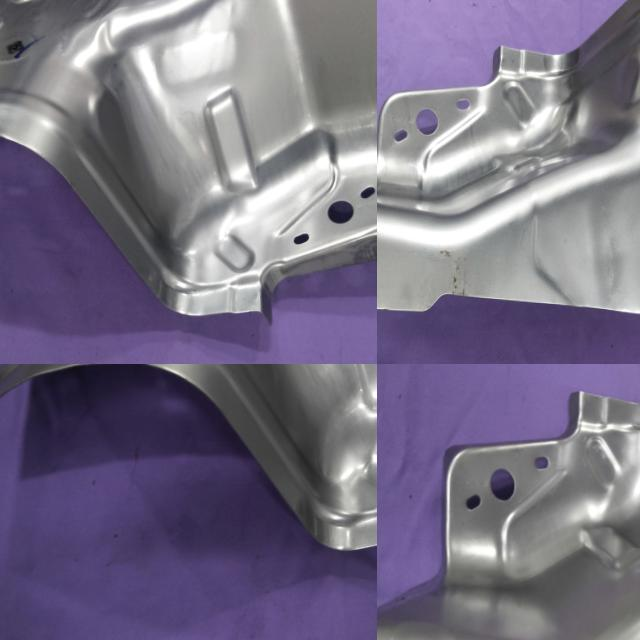Healthy: (0, 0, 377, 331), (0, 364, 377, 559), (377, 364, 640, 640)
rust: (431, 238, 476, 316)
